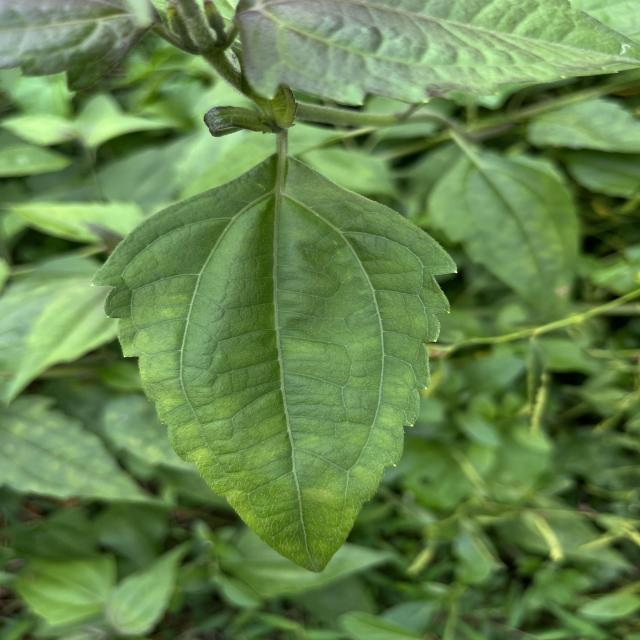Chromolaena odorata: (86, 147, 462, 576)
